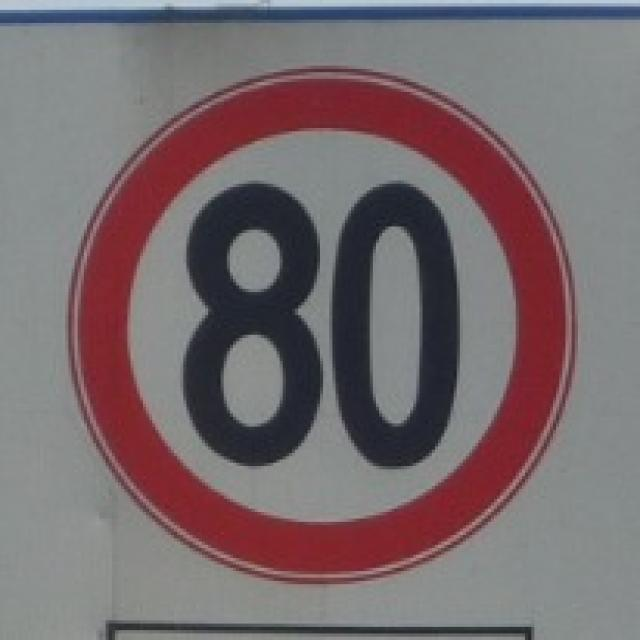Speed Limit -80-: (178, 175, 462, 470)
